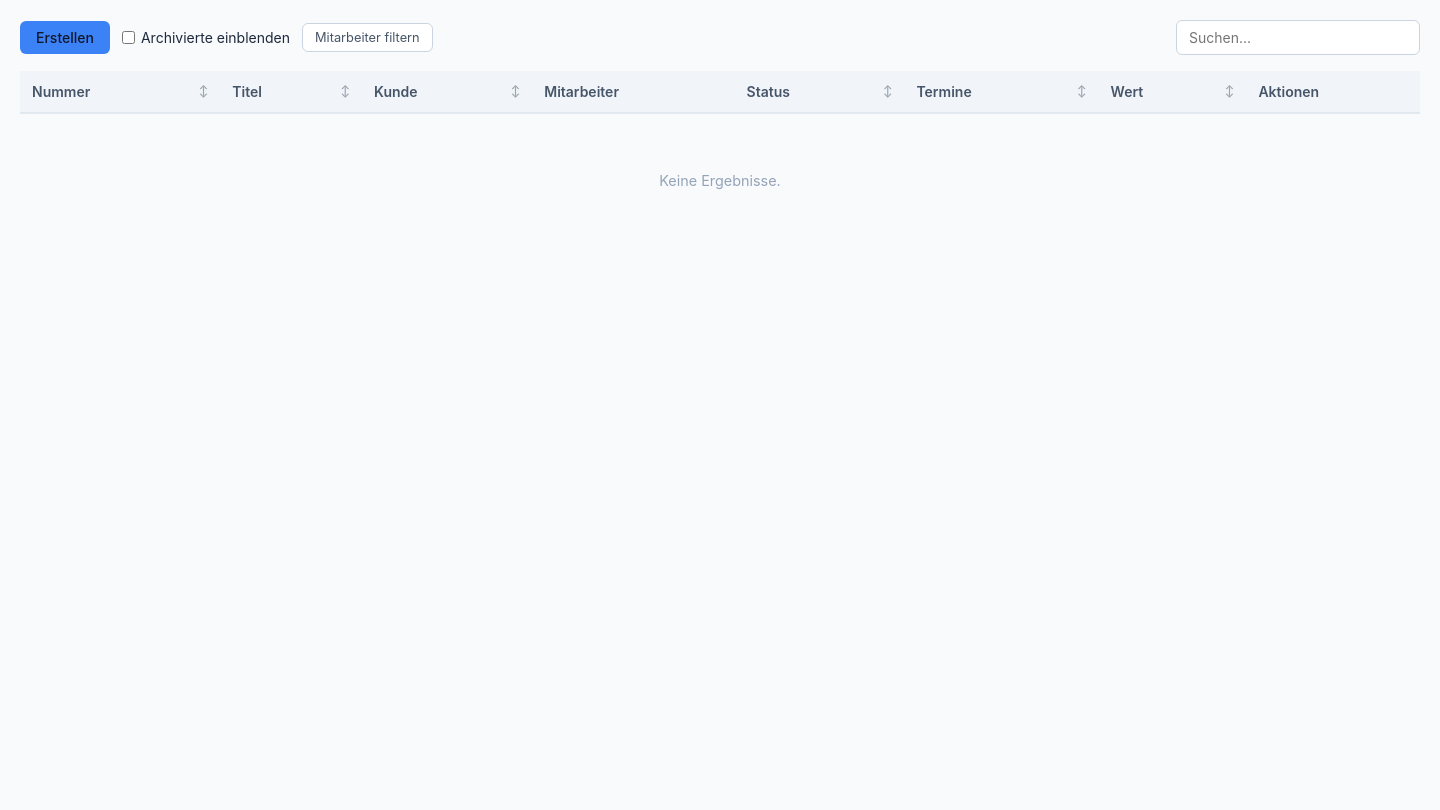
Test case: ProjectCreateForm — Baustelle all-or-none validation (AC-284) › toggle OFF with only street filled → submit blocked, German message visible, no POST
This screenshot has width=1440, height=810.
Click the button with test id "project-create-button".
click(65, 38)  # box [20,21,110,54]
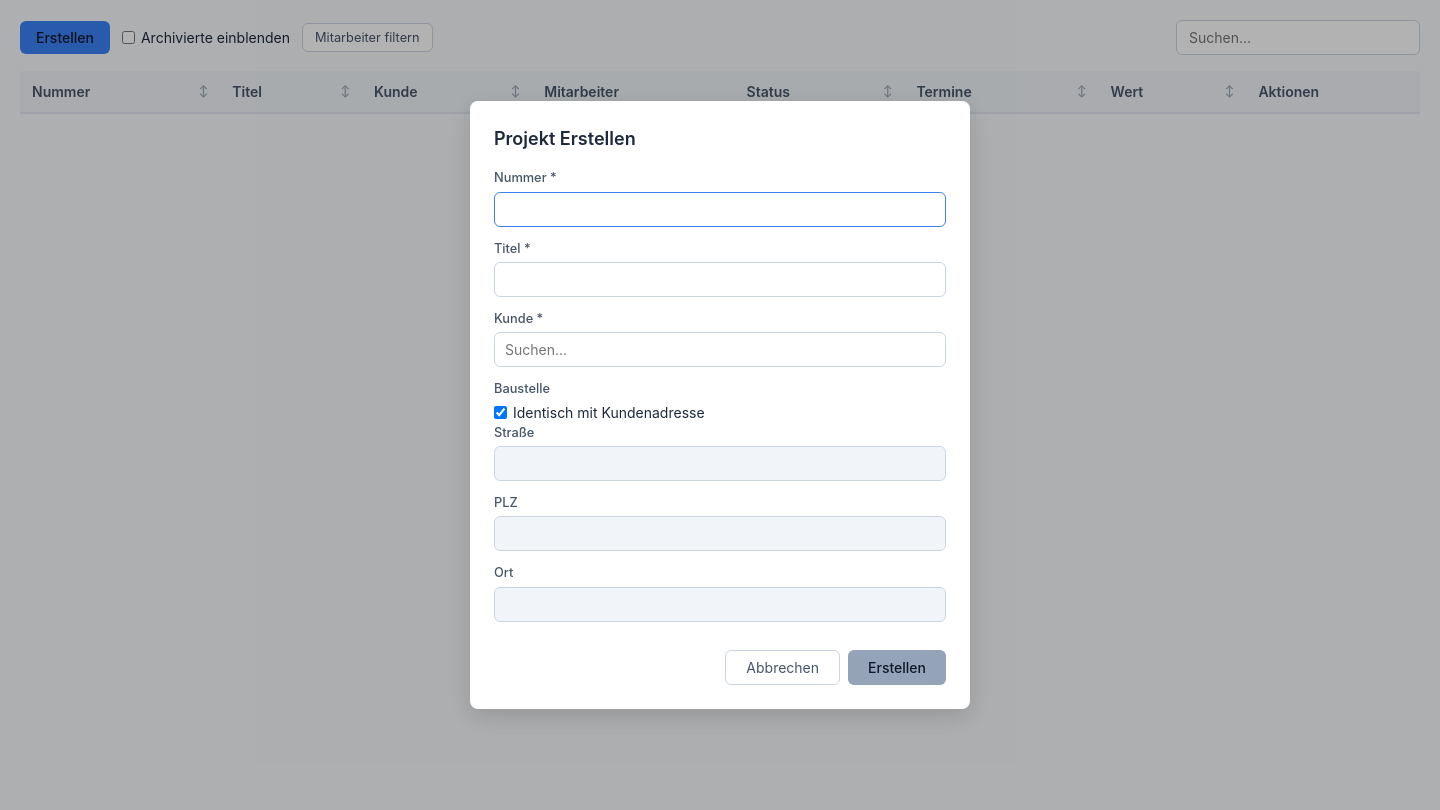
Type "P-NEW" into the field with test id "project-number-input".
click(720, 209); type("P-NEW")  # box [494,192,946,226]
Type "Neues Projekt" into the field with test id "project-title-input".
click(720, 279); type("Neues Projekt")  # box [494,262,946,297]
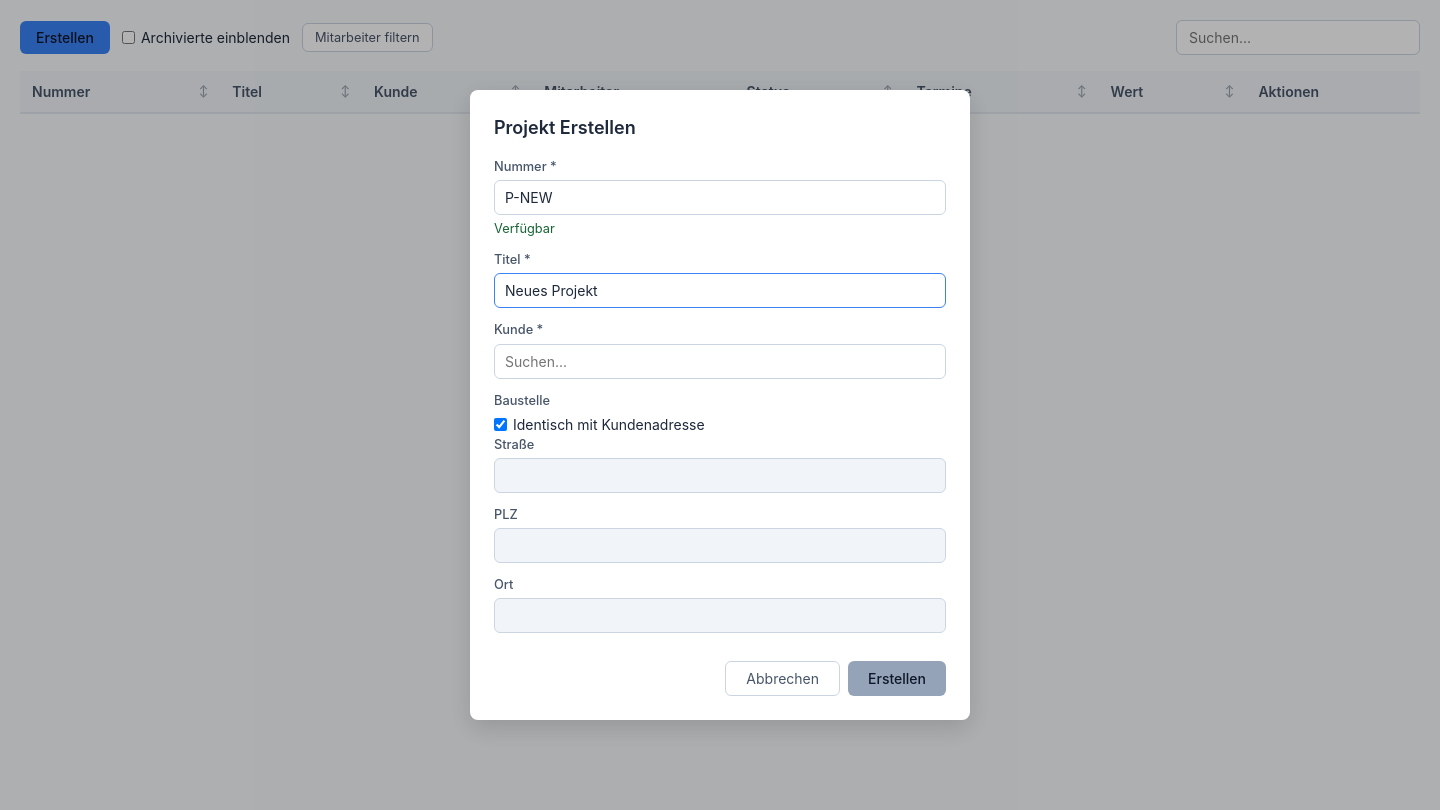
Click the field with placeholder "Suchen...".
click(720, 361)  # box [494,344,946,378]
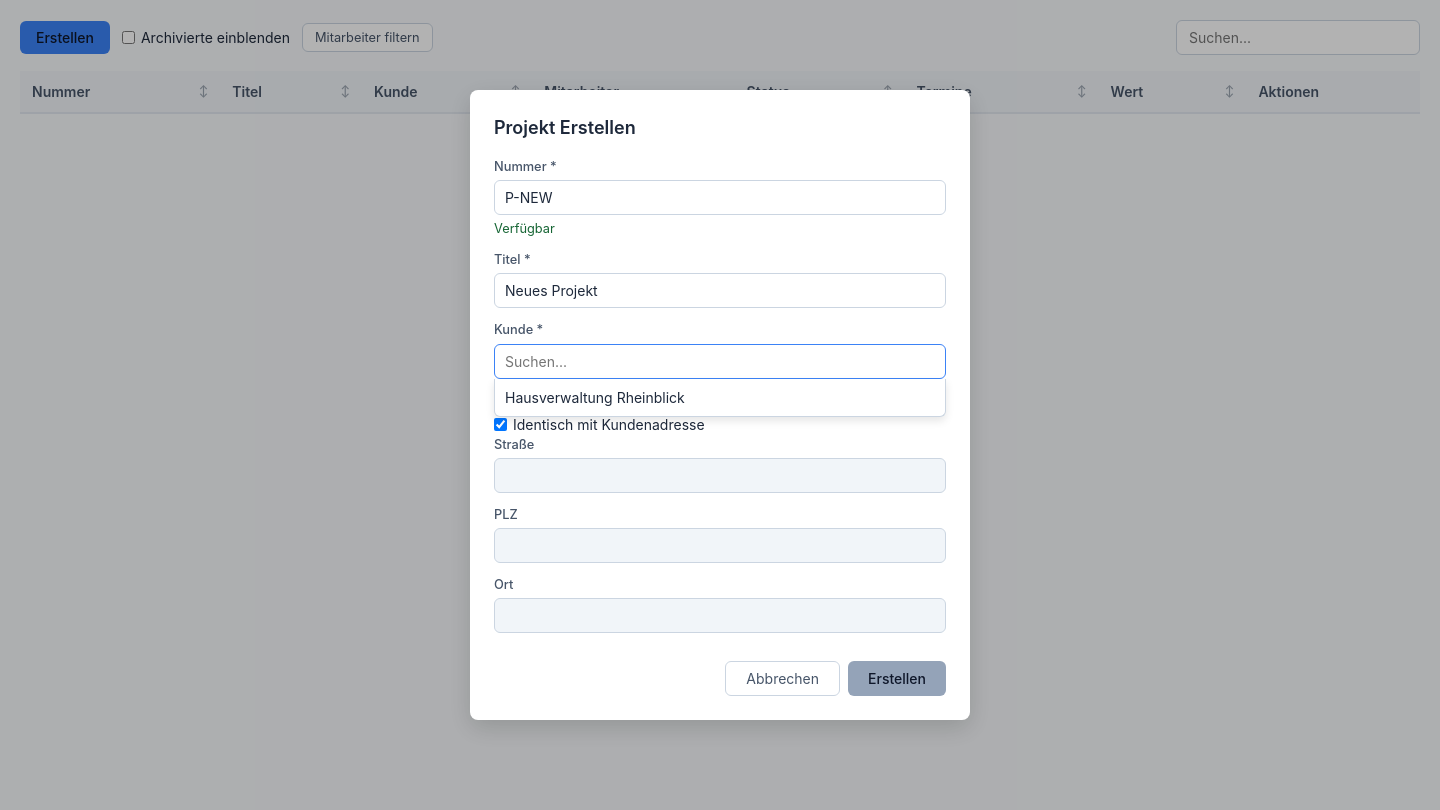
Click the text "Hausverwaltung Rheinblick".
click(595, 397)  # box [505,388,685,406]
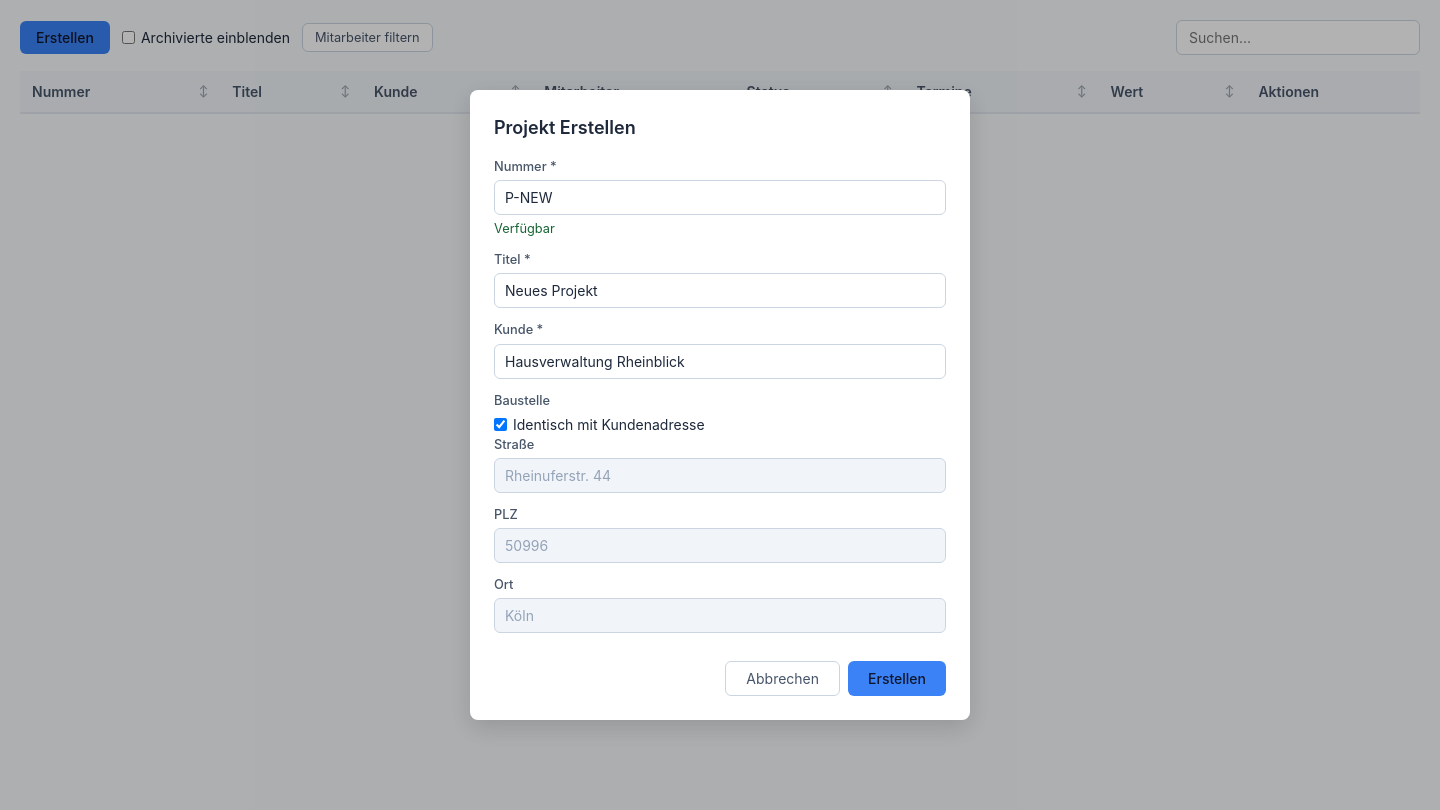
Click the checkbox labelled "Identisch mit Kundenadresse".
click(500, 424)  # box [494,418,507,431]
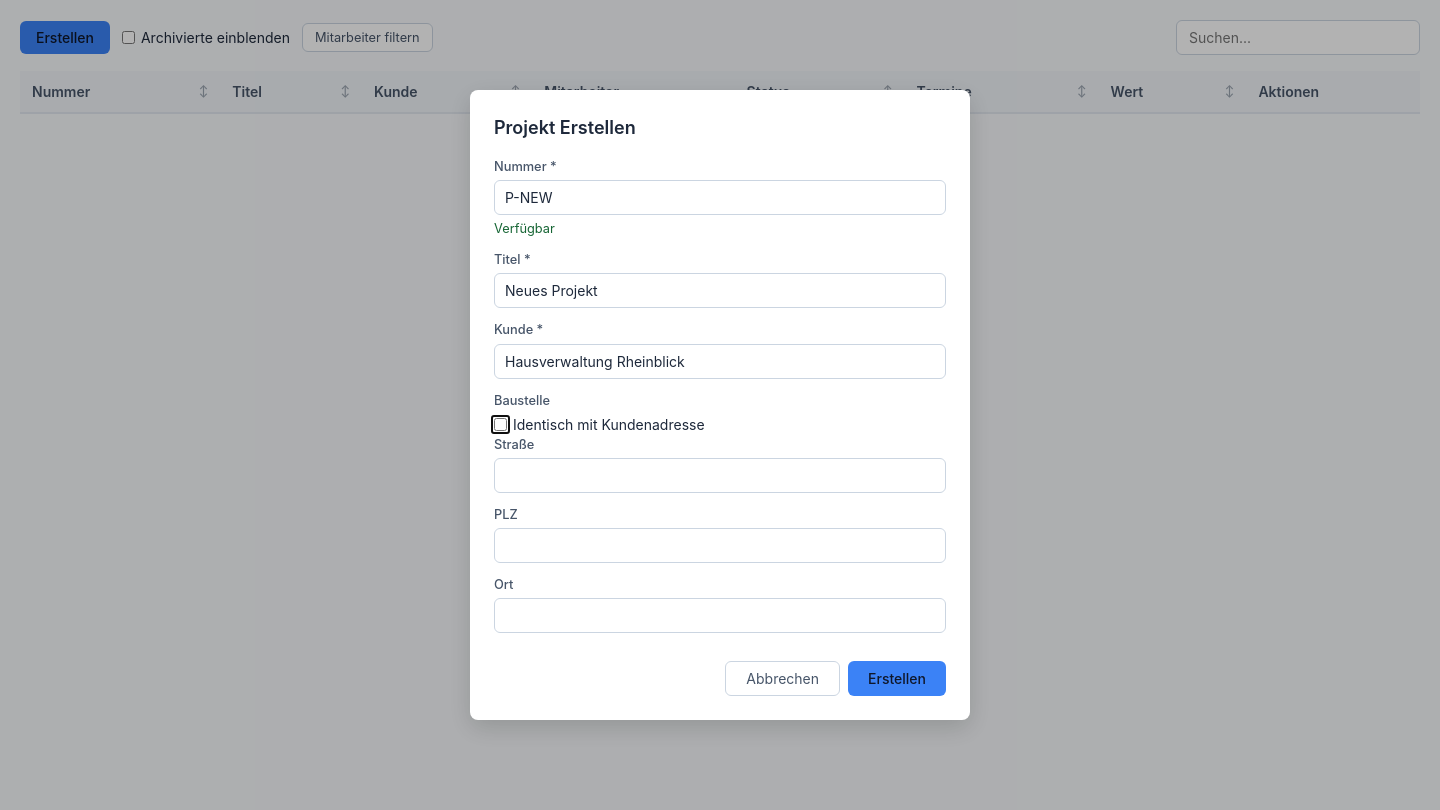
Type "Goethestr. 18" into the field with test id "project-site-street-input".
click(720, 475); type("Goethestr. 18")  # box [494,458,946,493]
Click the button with test id "project-submit".
click(897, 679)  # box [848,661,946,696]
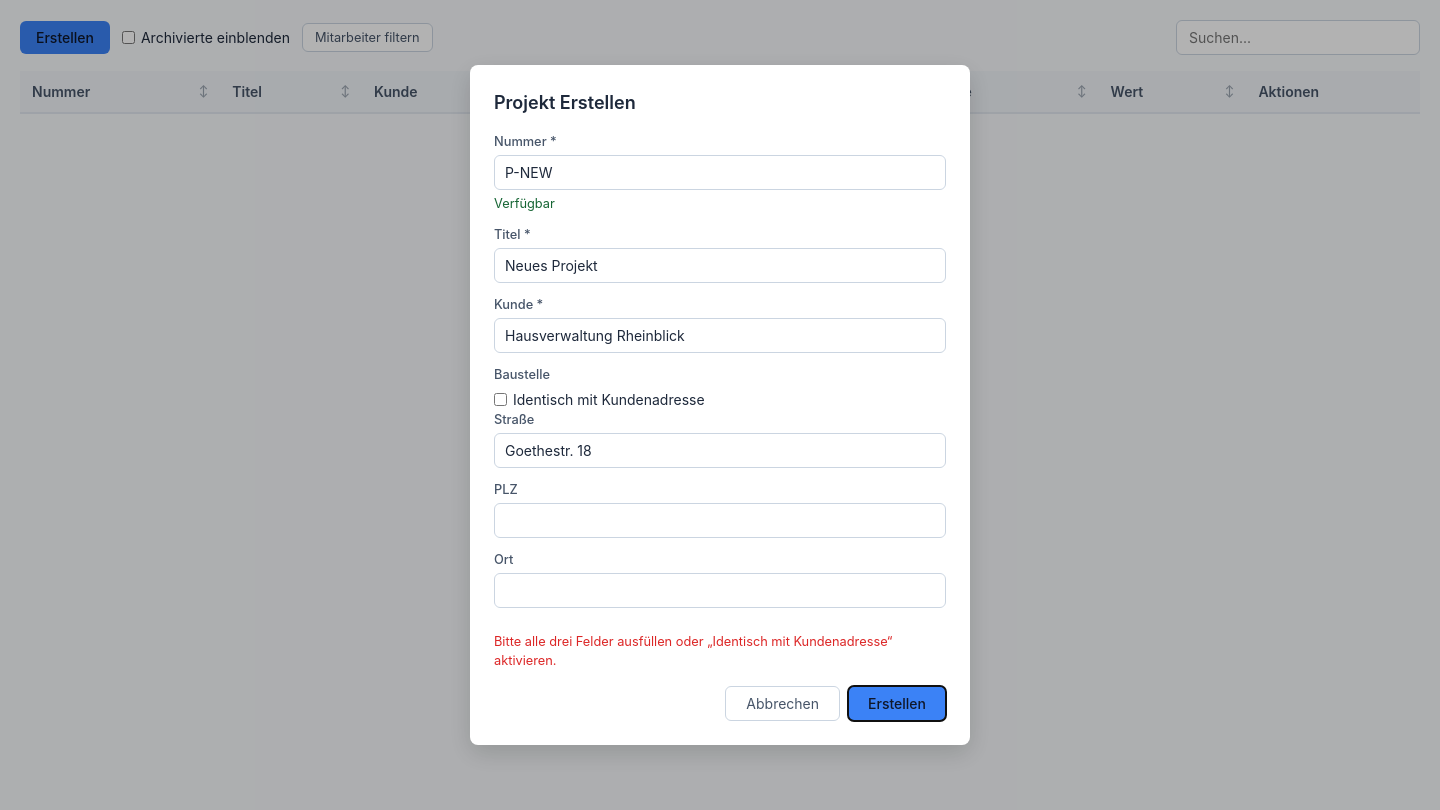
Check: the message with test id "project-site-address-error" reads "Bitte alle drei Felder ausfüllen oder „Identisch mit Kundenadresse“ aktivieren.", box [494,634,892,668]
